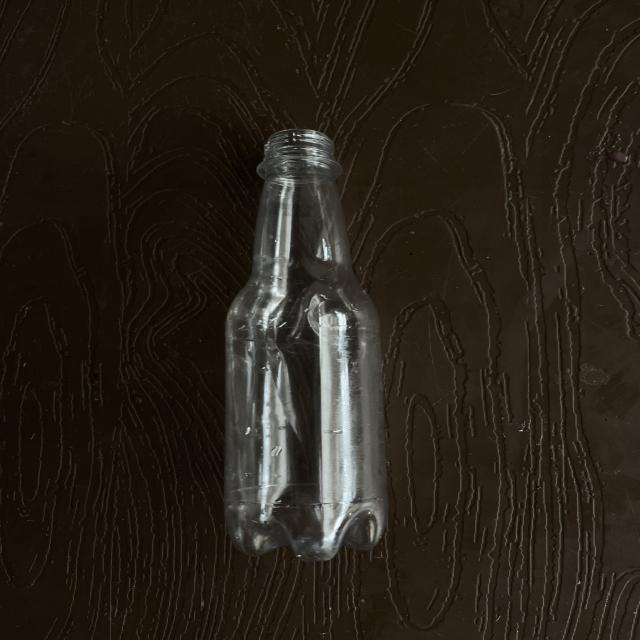PET_With_Liquid: (225, 130, 387, 560)
